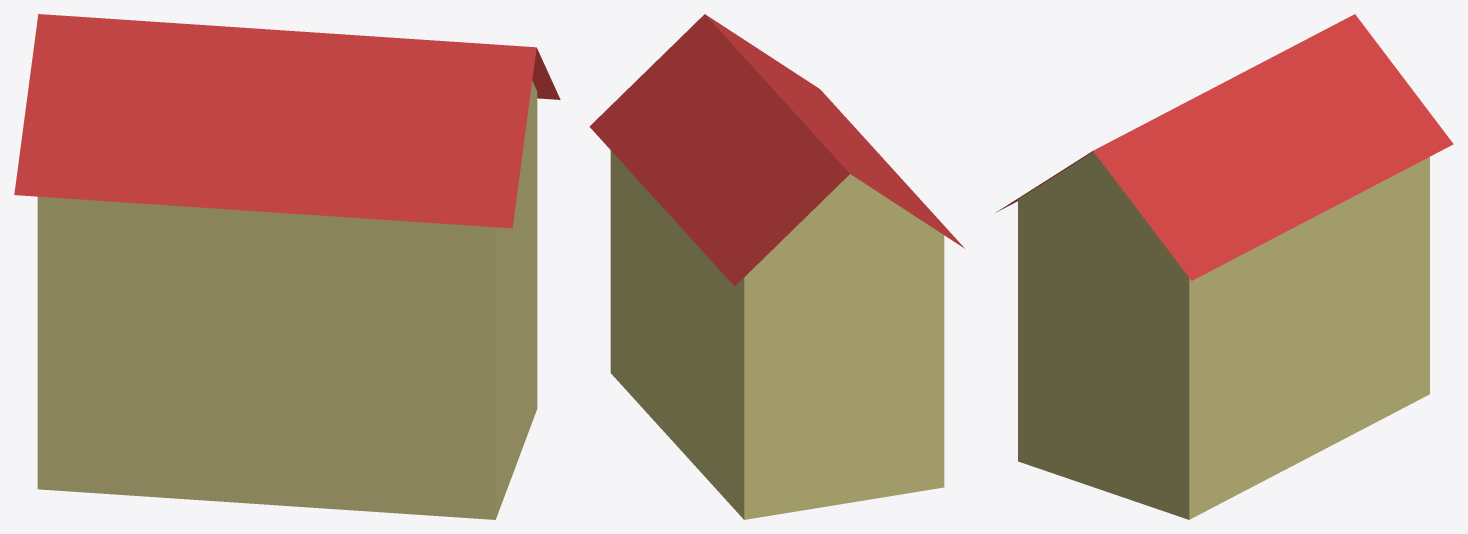
3 views of the same model, side by side, from view 1: azimuth 30°, elevation 25°; view 2: azimuth 150°, elevation 25°; view 3: azimuth 270°, elevation 25° (orthographic). The views are drawn at different scales.
Parts seen in each view (by area): view 1: group_5, group_3, group_4; view 2: group_5, group_3, group_4; view 3: group_5, group_3, group_4.
Boxes of the visible parts, x1,y1,x2,y2 form: group_5: [37, 81, 537, 519]; group_3: [37, 15, 560, 225]; group_4: [14, 14, 536, 228]; group_5: [610, 150, 944, 519]; group_3: [610, 14, 943, 284]; group_4: [589, 14, 964, 286]; group_5: [1018, 152, 1429, 519]; group_3: [996, 14, 1429, 268]; group_4: [1093, 16, 1453, 280].
Size of the model in its own units: 21.56 by 20.49 by 16.99.
